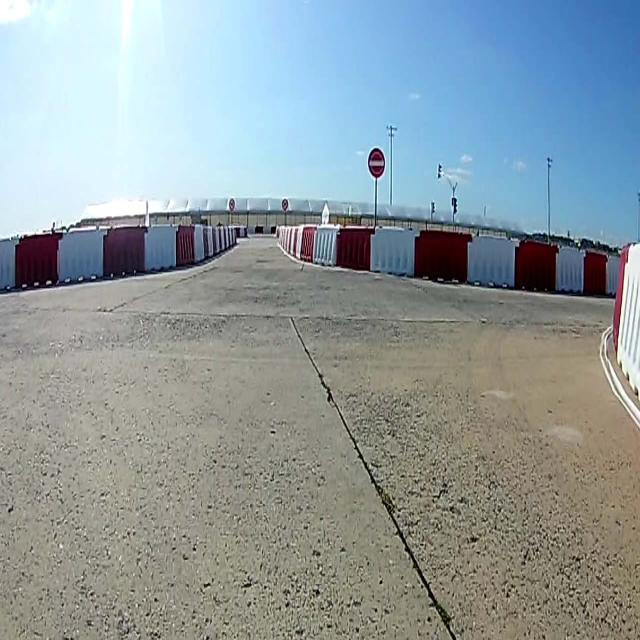girisyok: (367, 148, 385, 178)
